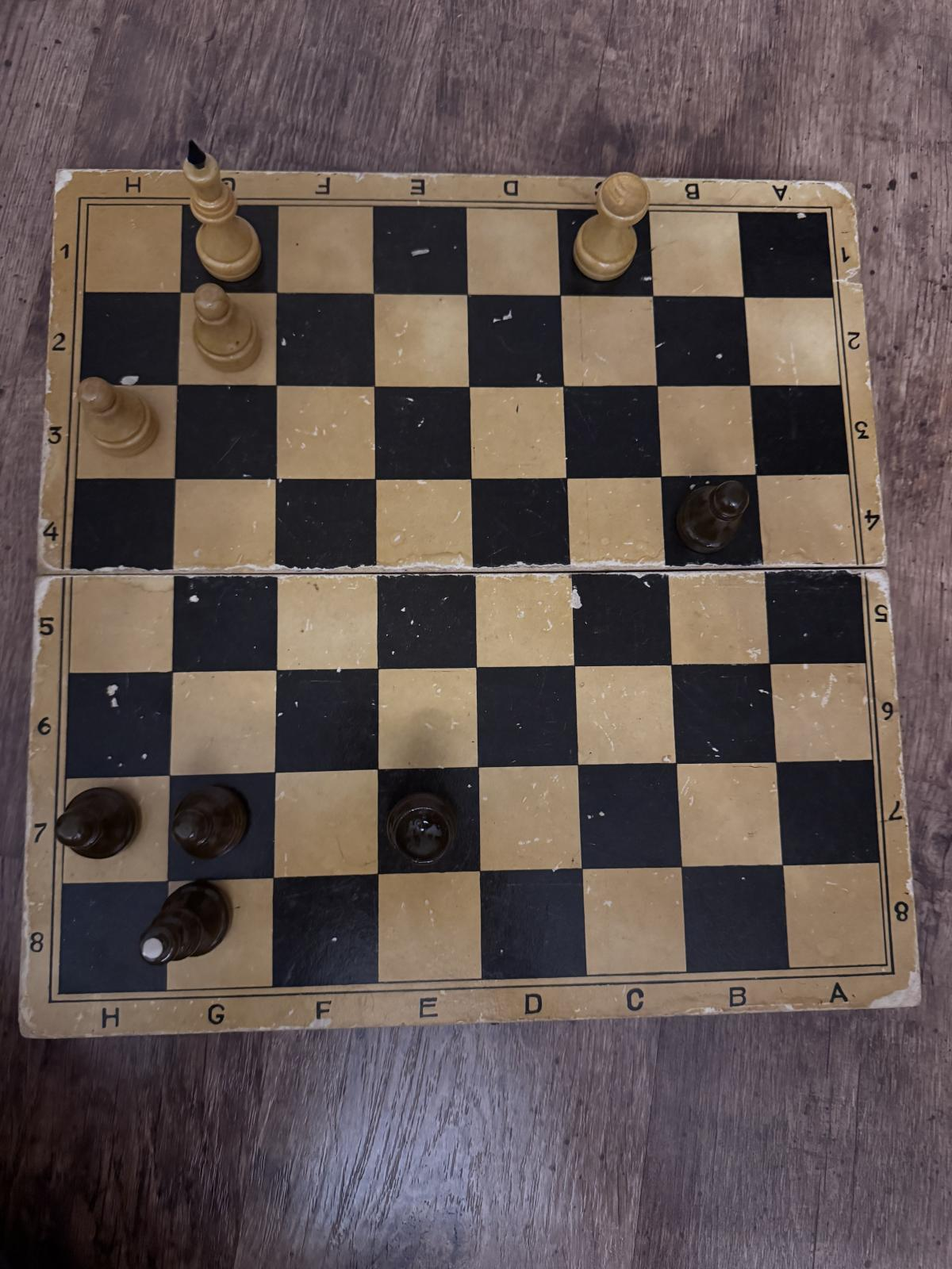Chess-Board: (58, 204, 886, 993)
